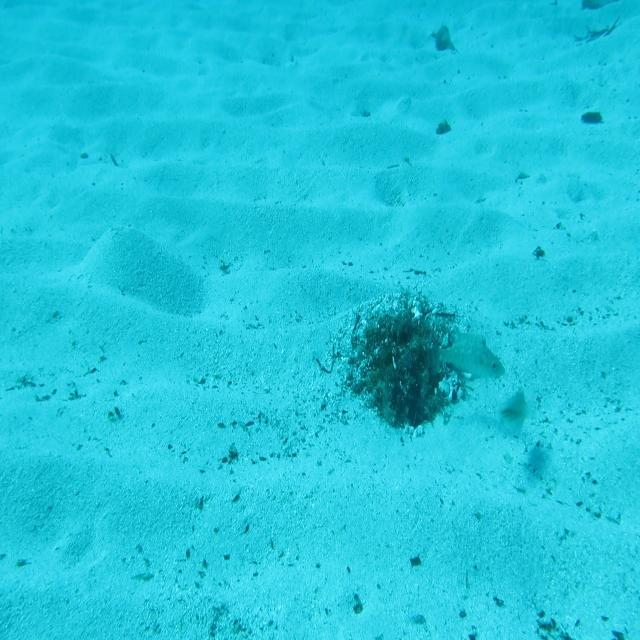MAF: (428, 308, 505, 386)
female: (495, 372, 534, 454)
nest: (346, 269, 482, 431)
